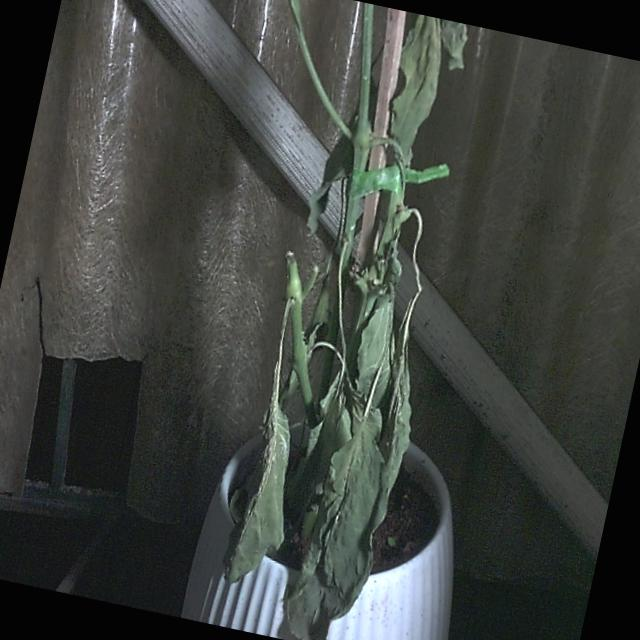Leaf: (276, 411, 402, 640), (216, 400, 310, 592)
